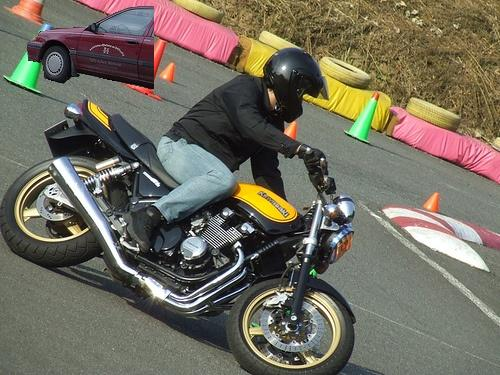tampered: (28, 7, 154, 89)
